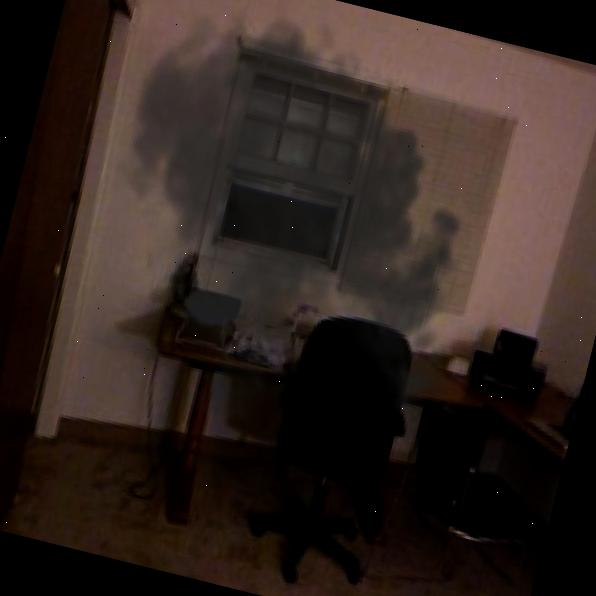smoke: (60, 0, 530, 468)
